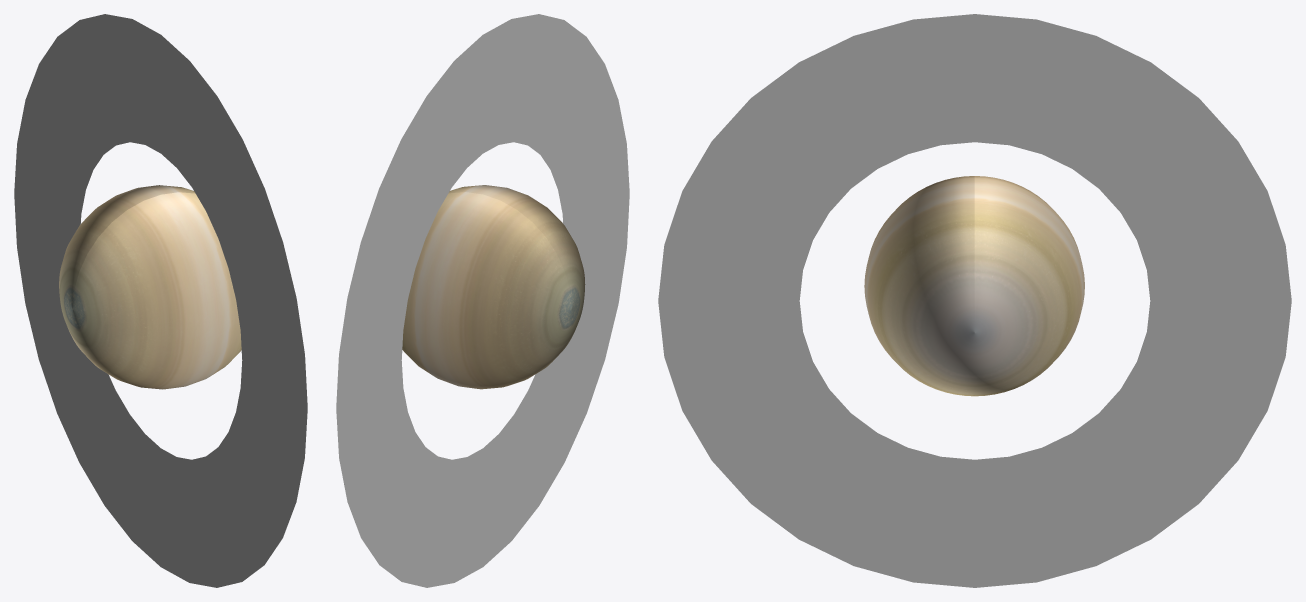
File: saturnBuilt.obj
3 views of the same model, side by side, from view 1: azimuth 30°, elevation 25°; view 2: azimuth 150°, elevation 25°; view 3: azimuth 270°, elevation 25° (orthographic). The views are drawn at different scales.
Parts seen in each view (by area): view 1: Circle, Plane; view 2: Circle, Plane; view 3: Circle, Plane.
Part boxes in pixels (bbox=[...]): Circle: bbox=[14, 14, 307, 587]; Plane: bbox=[59, 185, 241, 389]; Circle: bbox=[336, 14, 629, 587]; Plane: bbox=[402, 185, 585, 389]; Circle: bbox=[658, 14, 1291, 587]; Plane: bbox=[864, 176, 1084, 396].
Bounding box in the file's own units: 1.51 × 4.34 × 4.34.
